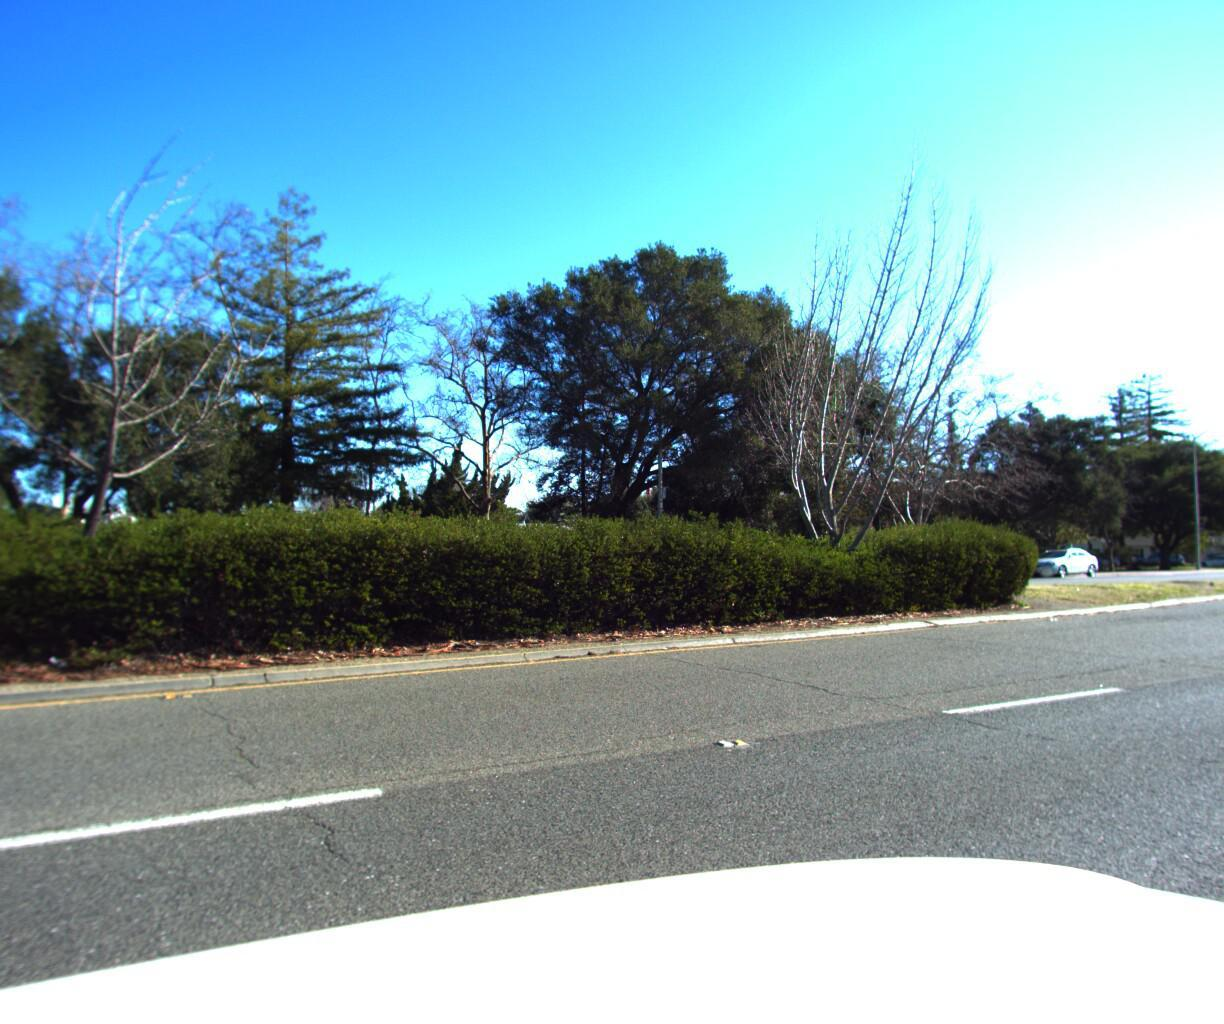car: (1016, 544, 1103, 579)
